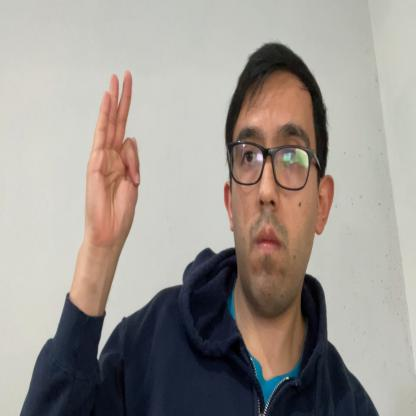F: (85, 70, 139, 244)
